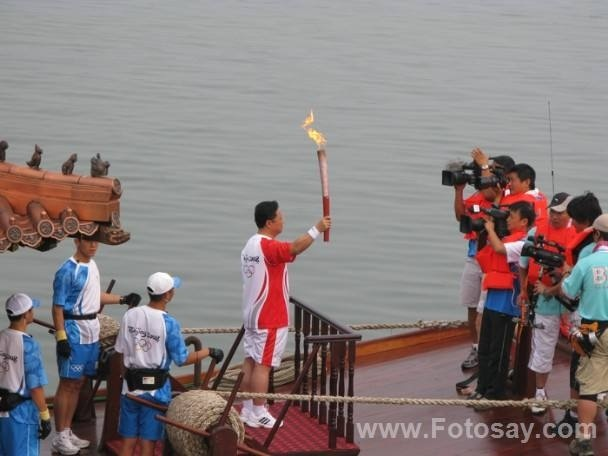fire: (302, 109, 324, 145)
